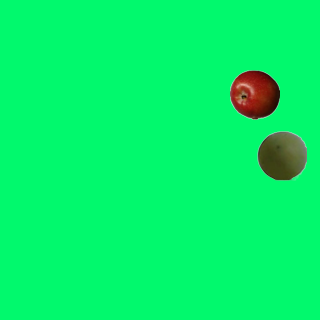Apple Braeburn: (229, 69, 279, 119)
Grape White 4: (256, 130, 306, 180)
